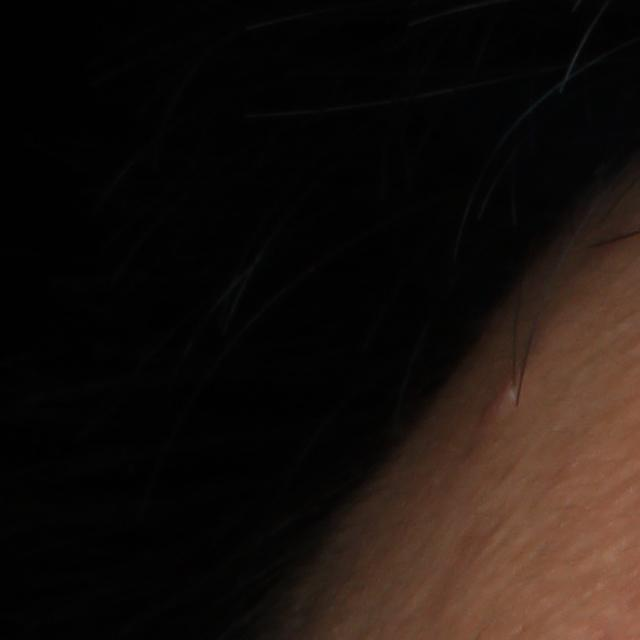papule: (470, 361, 535, 425)
